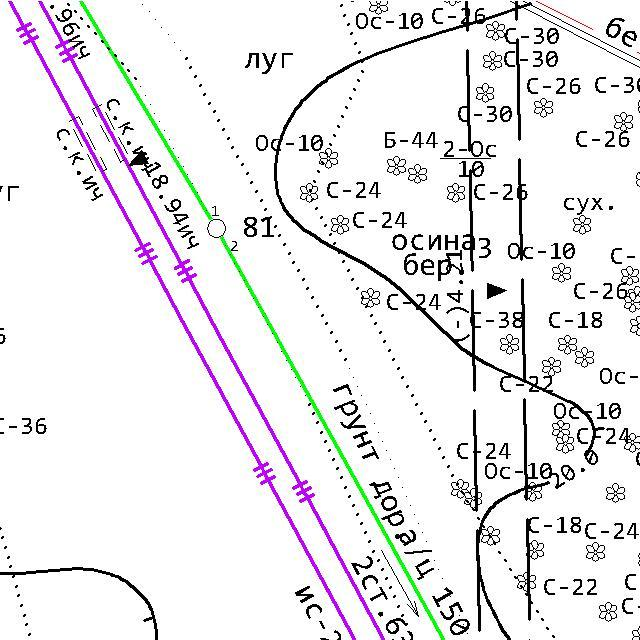bushes: (484, 19, 506, 43), (318, 147, 340, 170), (482, 49, 504, 72), (556, 333, 578, 356), (574, 346, 596, 369), (516, 570, 538, 593), (360, 285, 381, 309), (385, 154, 407, 176), (406, 163, 428, 185), (596, 601, 618, 623), (299, 181, 320, 204), (533, 96, 554, 119), (499, 332, 520, 355), (330, 214, 351, 236), (445, 182, 467, 203), (613, 110, 634, 132), (541, 356, 562, 378), (449, 477, 470, 499), (475, 81, 495, 104), (572, 213, 592, 236), (552, 261, 572, 283), (584, 542, 606, 562), (523, 481, 542, 503), (464, 487, 483, 509), (606, 483, 626, 503), (622, 431, 640, 453), (556, 434, 575, 454), (481, 526, 500, 546), (528, 539, 544, 560), (552, 420, 570, 436)
mark: (484, 281, 508, 300), (127, 148, 149, 168)
well: (203, 217, 230, 241)
